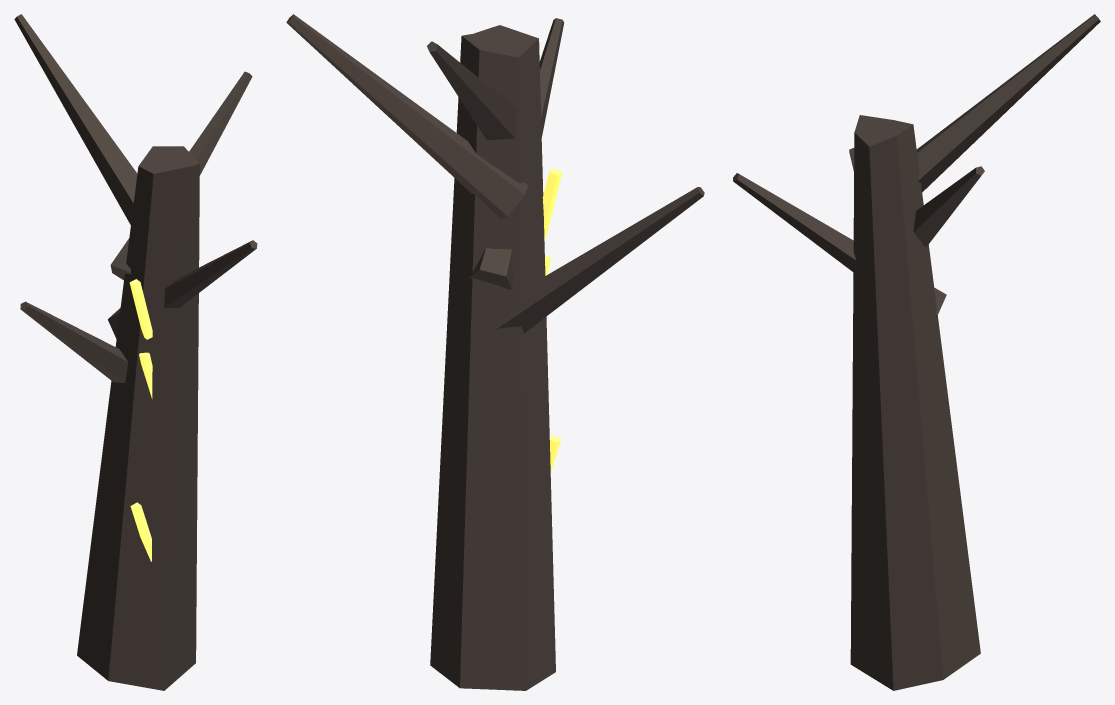
Rendered from charred_tree.glb.
3 views of the same model, side by side, from view 1: azimuth 30°, elevation 25°; view 2: azimuth 150°, elevation 25°; view 3: azimuth 270°, elevation 25° (orthographic). The views are drawn at different scales.
Parts seen in each view (by area): view 1: charred_tree; view 2: charred_tree; view 3: charred_tree.
Part boxes in pixels (x1,y1,x2,y2): charred_tree: [14, 14, 257, 690]; charred_tree: [286, 14, 704, 690]; charred_tree: [733, 14, 1100, 690].
Size of the model in its own units: 2.04 by 4.04 by 2.12.
